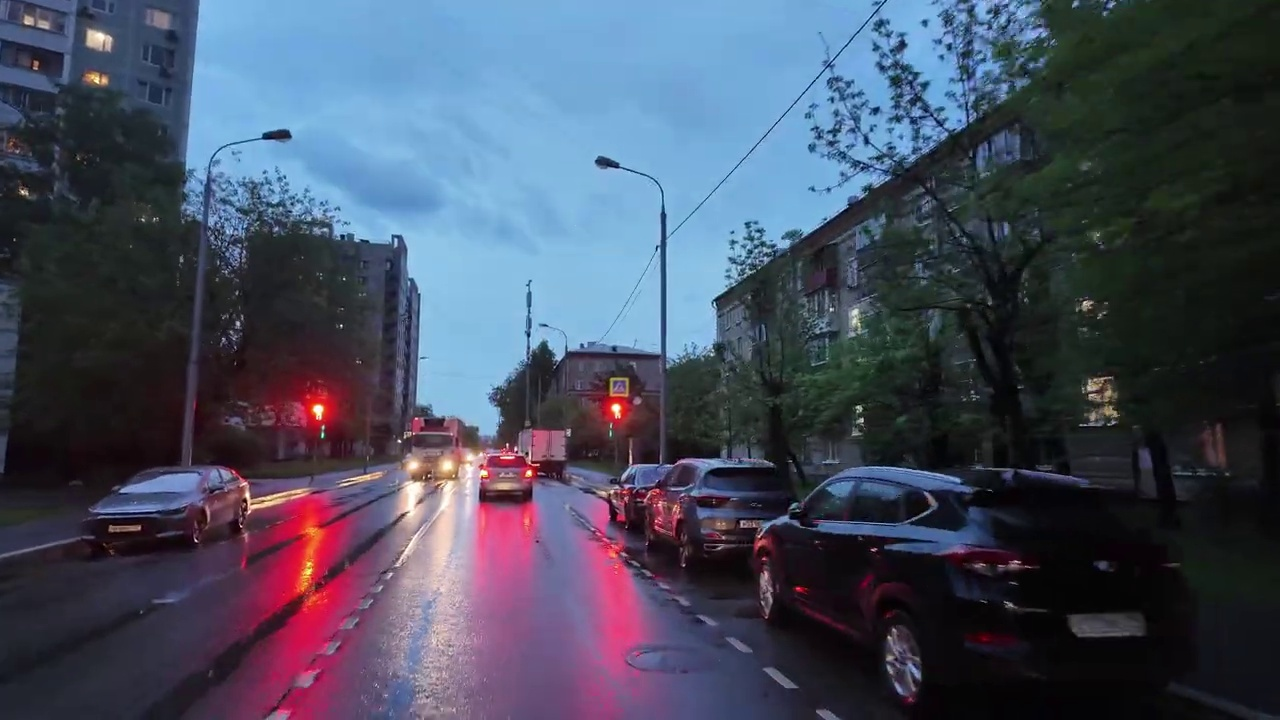apagada: (257, 121, 294, 149), (589, 149, 622, 176)
